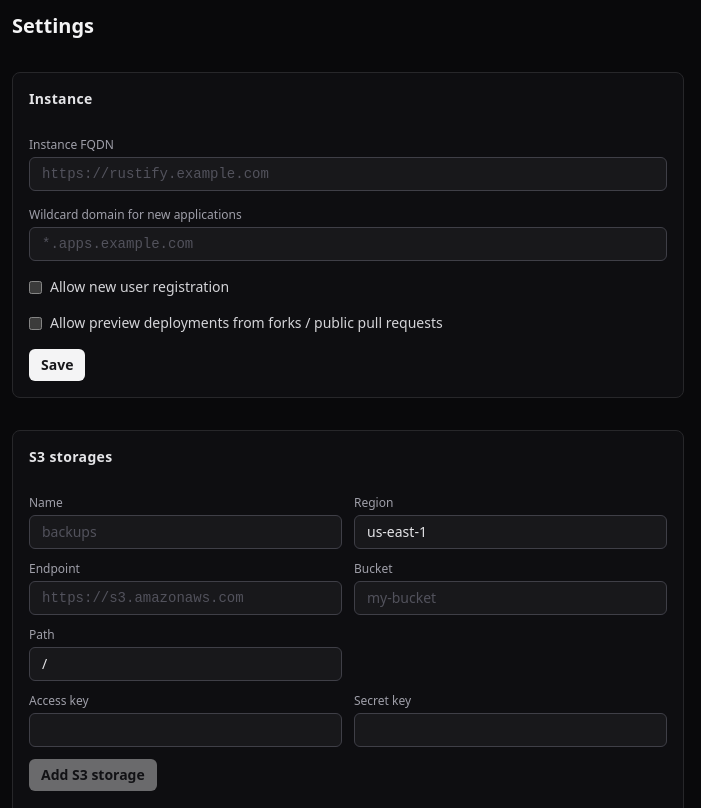
Test: S3 storage form (settings) › requires name, bucket, key and secret before submit
Expected: the button "Add S3 storage" is disabled, [29, 759, 157, 791]
Type "my-s3" into the field with placeholder "backups" at {"x": 186, "y": 532}, box [29, 515, 342, 549]
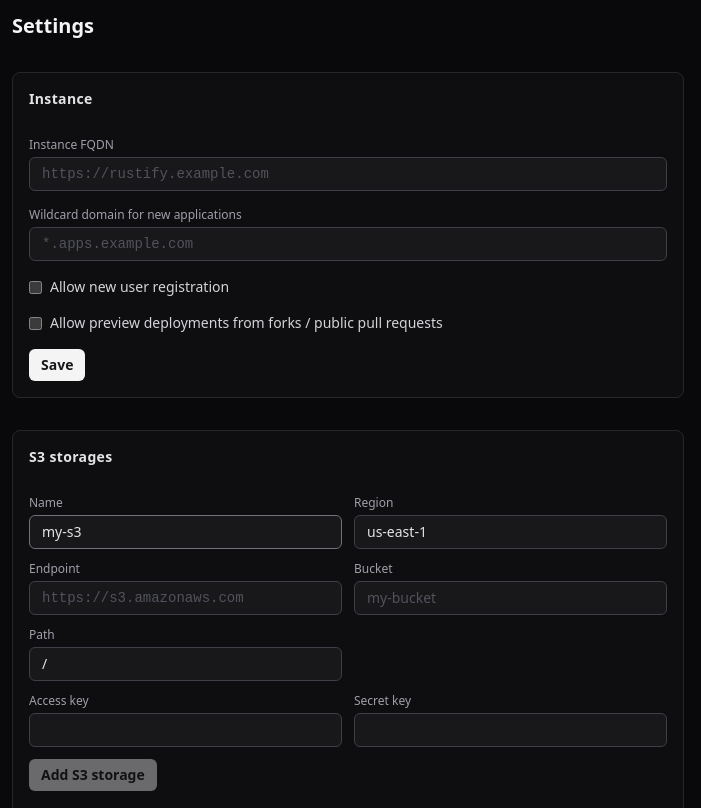
Type "bkt" into the field with placeholder "my-bucket" at {"x": 510, "y": 598}, box [354, 581, 667, 615]
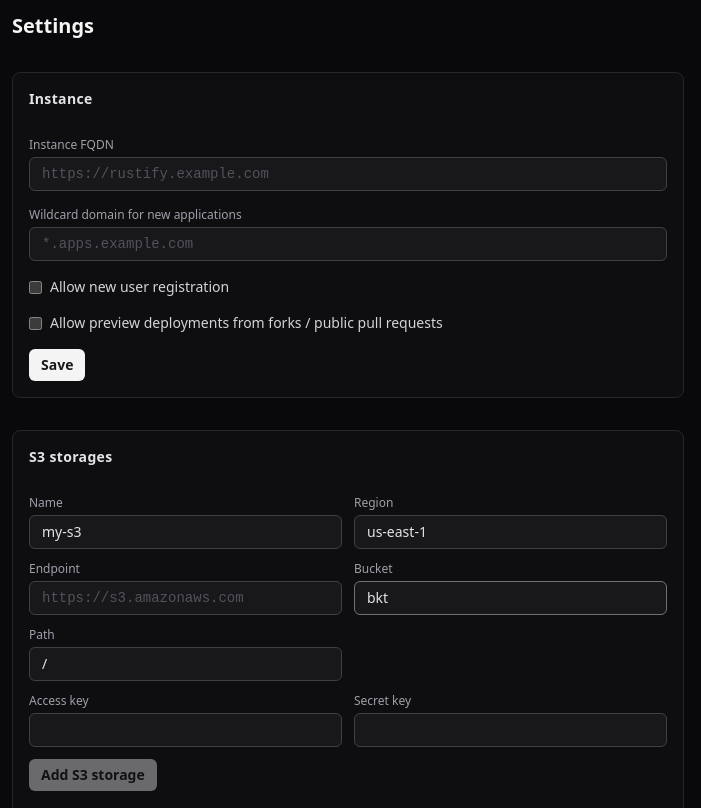
Expected: the button "Add S3 storage" is disabled, [29, 759, 157, 791]
Type "AKIA" into the field labelled "Access key" at {"x": 186, "y": 730}, box [29, 713, 342, 747]
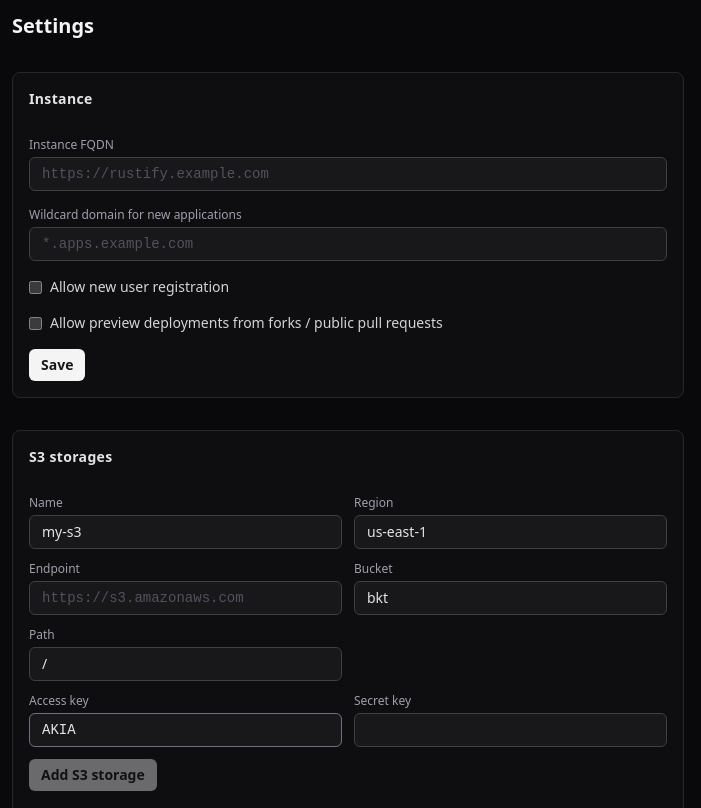
Type "secret" into the password field labelled "Secret key" at {"x": 510, "y": 730}, box [354, 713, 667, 747]
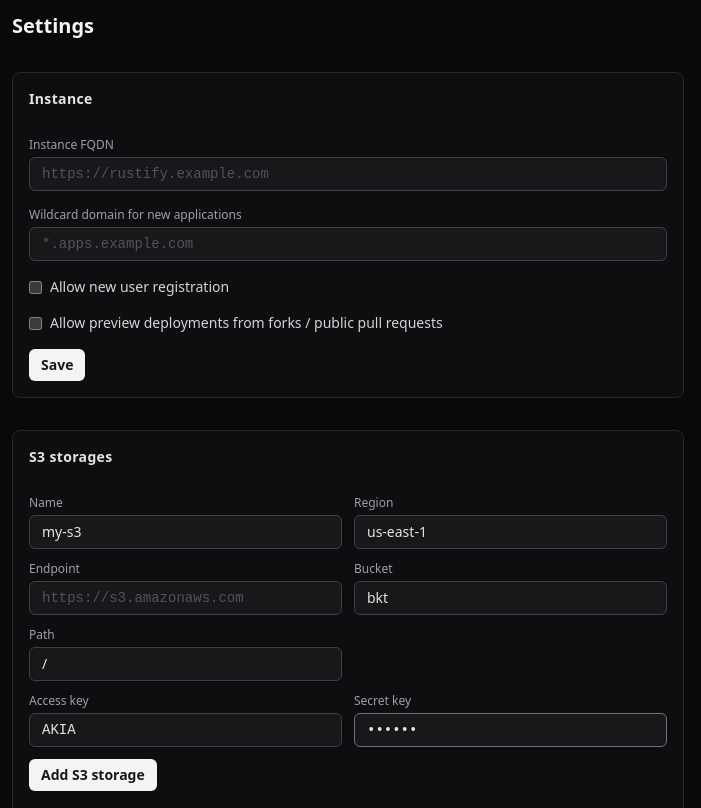
Expected: the button "Add S3 storage" is enabled, [29, 759, 157, 791]
